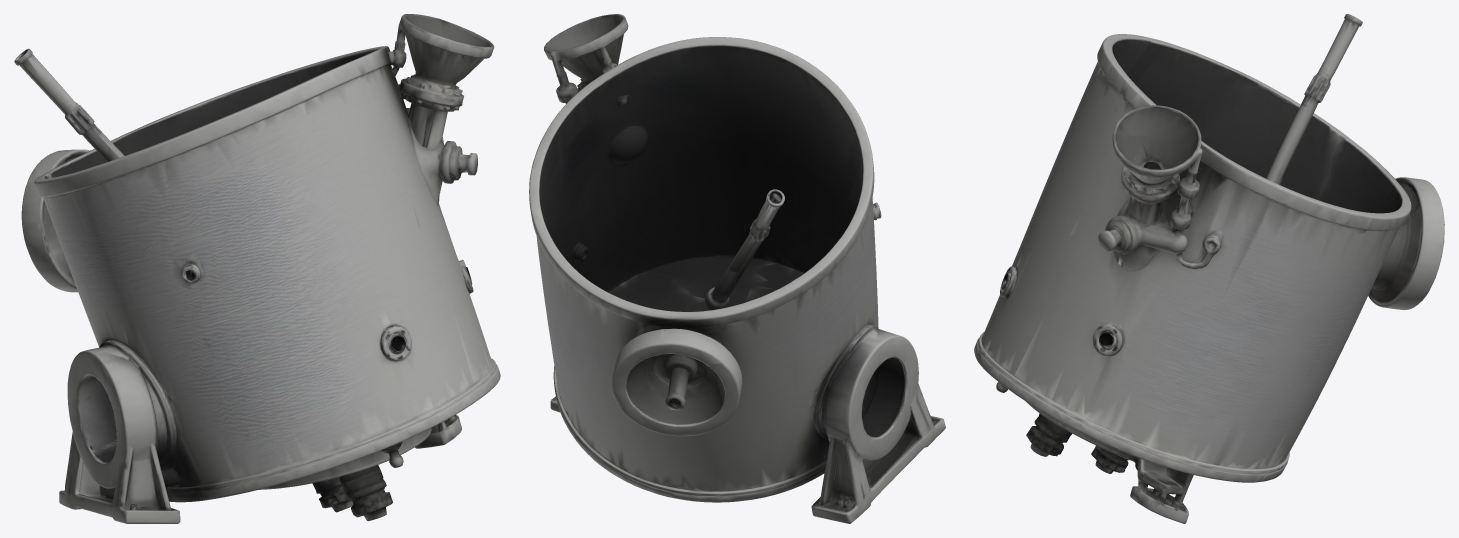
The model's file is zhuanlu_opt.glb.
3 renders of one model, left to right at view 1: azimuth 30°, elevation 25°; view 2: azimuth 150°, elevation 25°; view 3: azimuth 270°, elevation 25°, orthographic. The views are drawn at different scales.
Parts seen in each view (by area): view 1: node_0; view 2: node_0; view 3: node_0.
Part boxes in pixels (<box>): node_0: <box>14,14,500,523</box>; node_0: <box>529,14,945,523</box>; node_0: <box>974,14,1444,523</box>.
Bounding box in the file's own units: 0.8513 × 0.9129 × 0.9446.
1 material, 1 textured.
